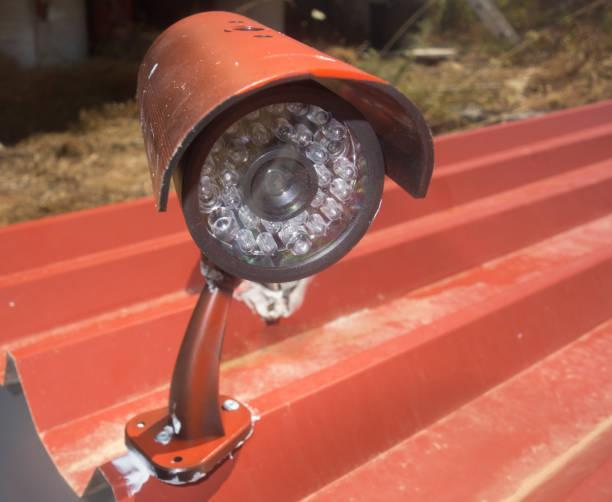camera: (95, 0, 460, 293)
